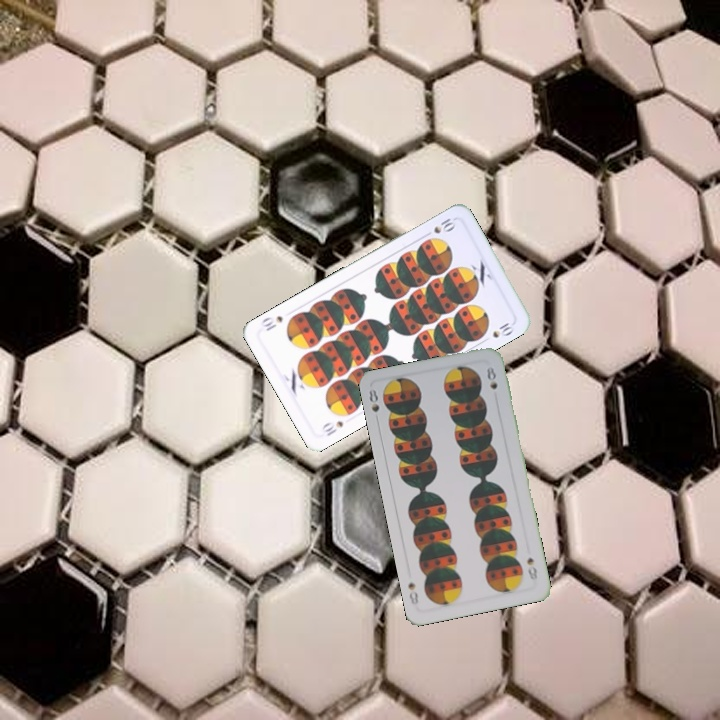S10: (420, 214, 458, 240), (318, 417, 346, 439)
S8: (365, 385, 382, 425), (523, 554, 540, 582)
